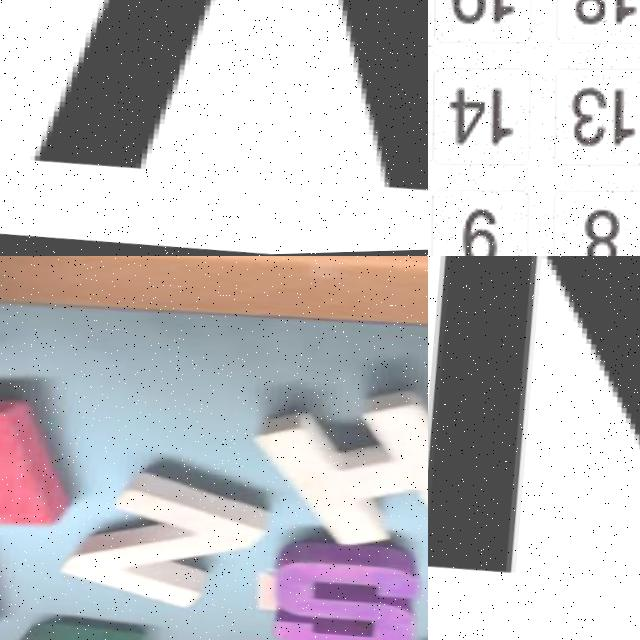1: (600, 74, 640, 164), (481, 77, 519, 151), (477, 0, 522, 33), (602, 0, 640, 35)
3: (558, 75, 611, 154)
4: (438, 77, 490, 152)
8: (568, 202, 626, 256), (559, 0, 613, 43)
9: (452, 197, 507, 256), (435, 0, 493, 29)
D: (0, 617, 138, 640)
E: (0, 387, 81, 543)
H: (249, 378, 428, 566)
N: (428, 256, 640, 618)
S: (259, 533, 428, 640)
V: (14, 0, 428, 224)
Z: (53, 452, 269, 618)
